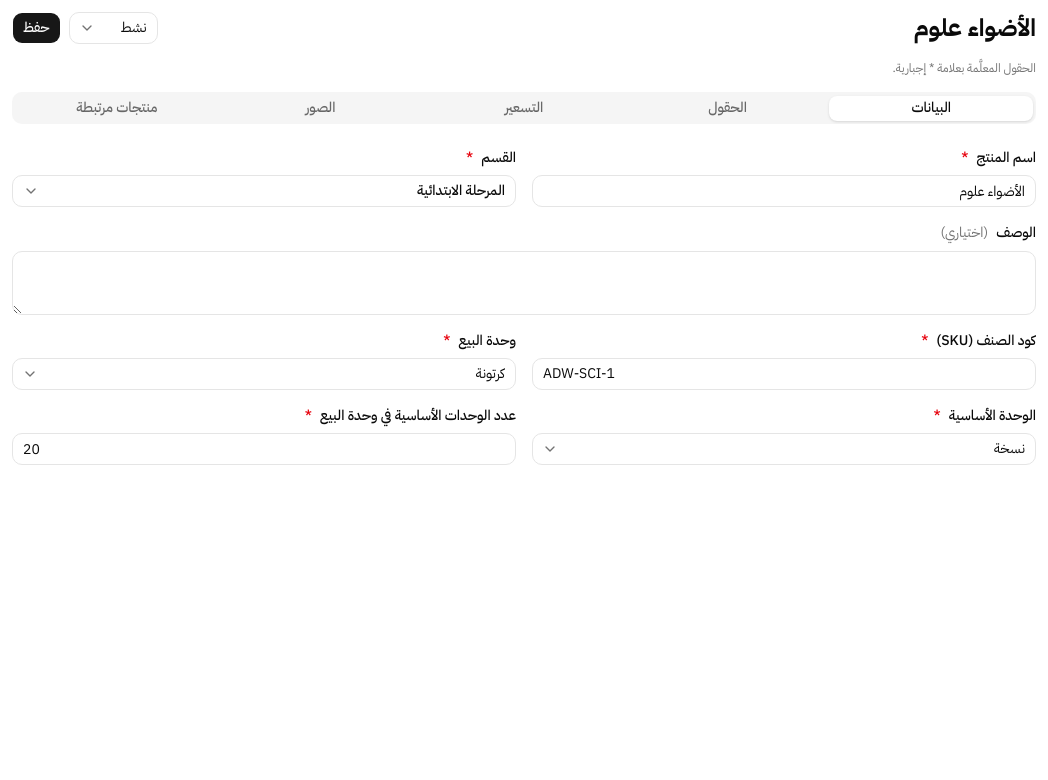
it: ProductForm › lists the backend's invalid_tiers problems on the pricing tab
Click the button "حفظ" at (36, 28), box [12,12,61,44]
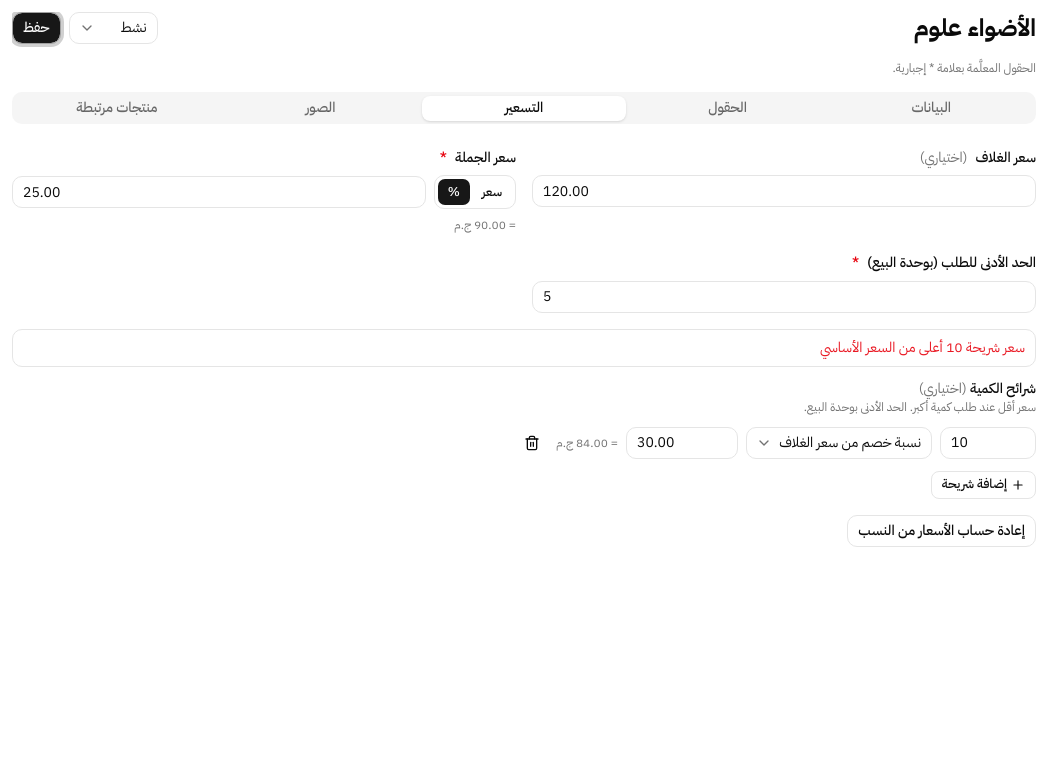
Expected: the list item "سعر شريحة 10 أعلى من السعر الأساسي" is shown, [820,336,1025,358]
